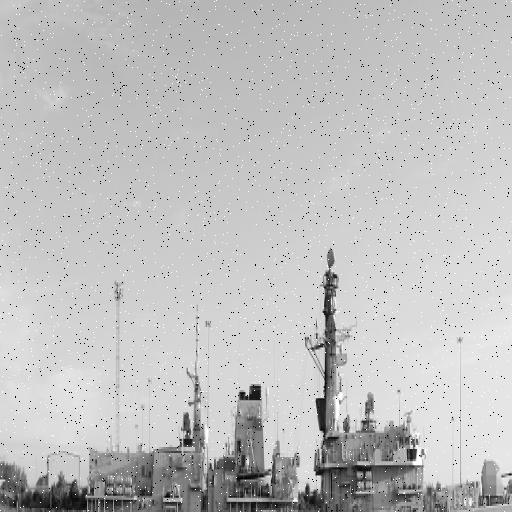Fragata: (1, 226, 512, 512)
